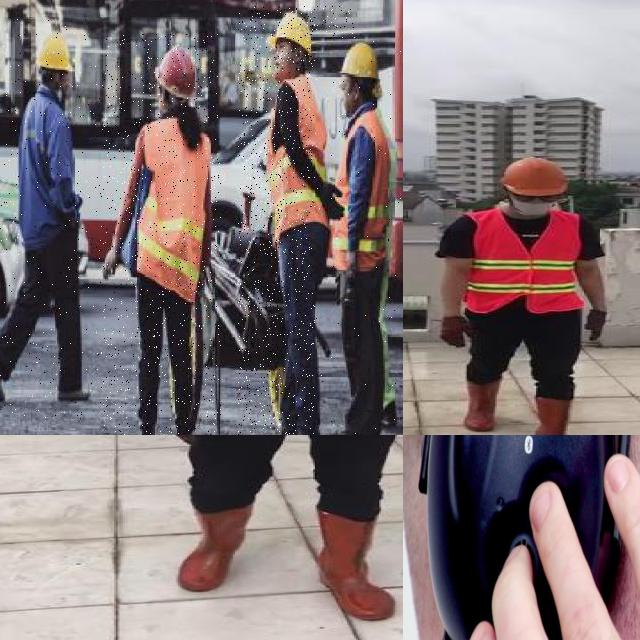Ear-protection: (403, 435, 640, 640)
boots: (315, 508, 400, 621), (178, 506, 253, 593), (532, 395, 583, 435), (465, 378, 502, 433), (53, 386, 95, 404), (0, 349, 11, 405), (331, 429, 378, 435)
face_mask: (510, 190, 562, 218)
glasses: (512, 192, 562, 206)
hand_glove: (442, 314, 474, 349), (588, 309, 607, 340)
head_helmet: (492, 154, 574, 199), (154, 46, 198, 101), (267, 13, 311, 56), (36, 34, 74, 73), (341, 43, 380, 80)
person: (424, 148, 622, 435), (139, 435, 403, 634), (238, 6, 355, 435), (103, 34, 221, 435), (0, 17, 104, 419), (315, 38, 403, 435)
vest: (135, 119, 212, 304), (468, 213, 584, 314), (331, 108, 400, 271), (267, 75, 330, 250)
